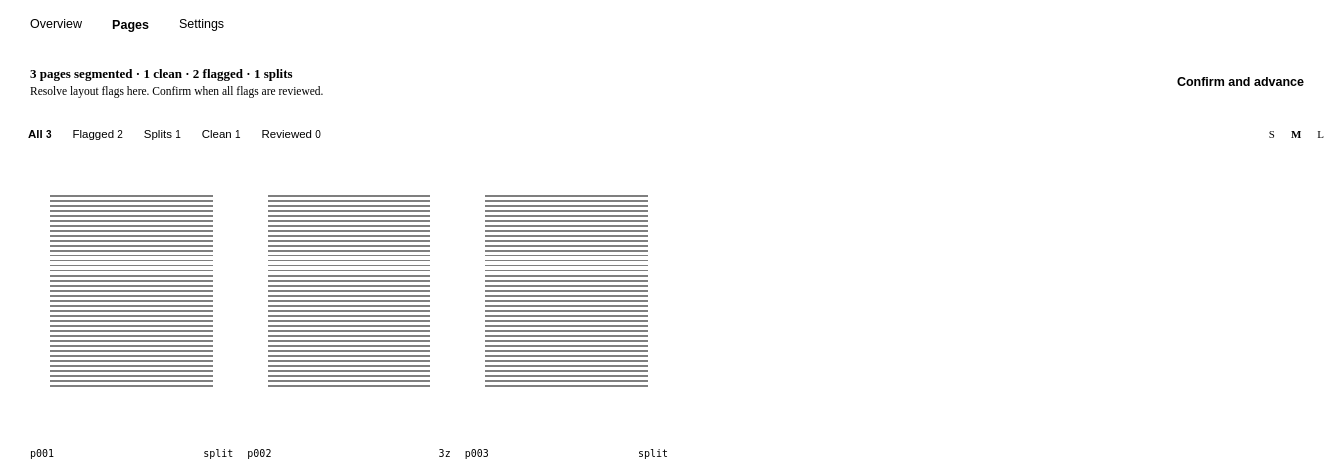
it: TextZonesTool — tab switching › clicking Overview tab shows zone-overview-tab
Expected: the element with test id "zone-tab-bar" is shown, left=16, top=8, right=238, bottom=42
What coordinates should you click on to do the following:
click the button with test id "zone-tab-overview"
I would click on:
 (56, 25)
Its box is left=16, top=8, right=96, bottom=42.
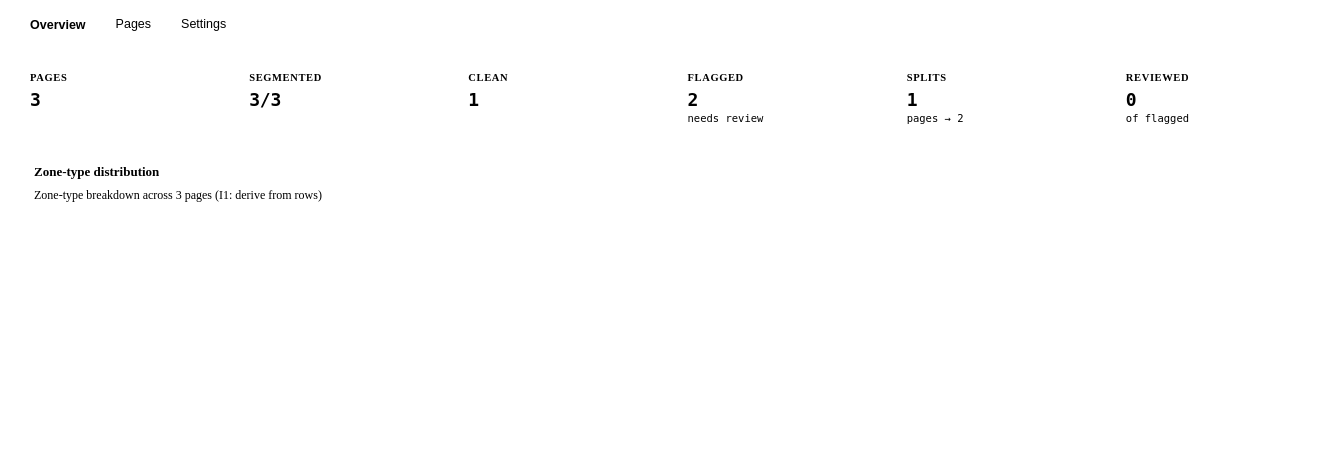
Expected: the element with test id "zone-overview-tab" is shown, left=30, top=72, right=1189, bottom=202
